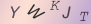J: (61, 5, 73, 19)
K: (49, 1, 60, 11)
T: (79, 11, 89, 22)
W: (27, 4, 47, 19)
Y: (9, 5, 22, 20)
